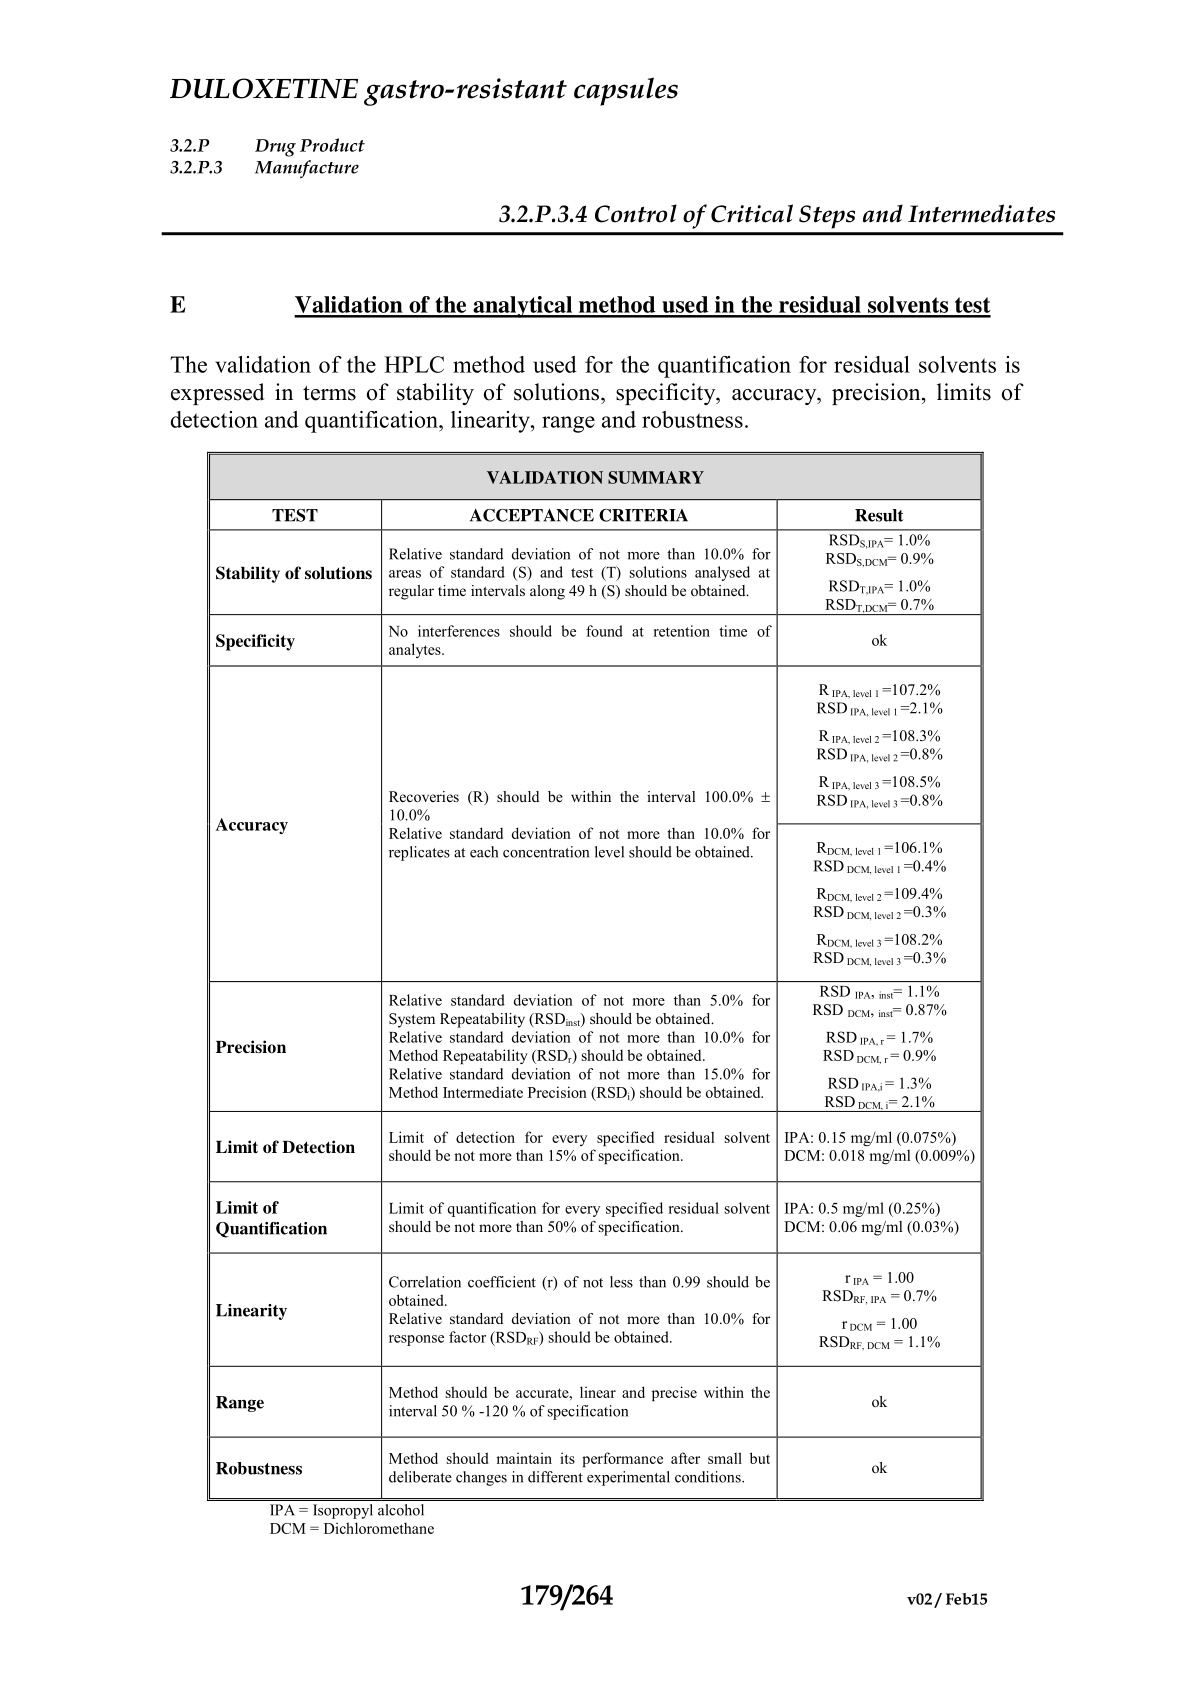merged_cells: (208, 451, 983, 1502)
